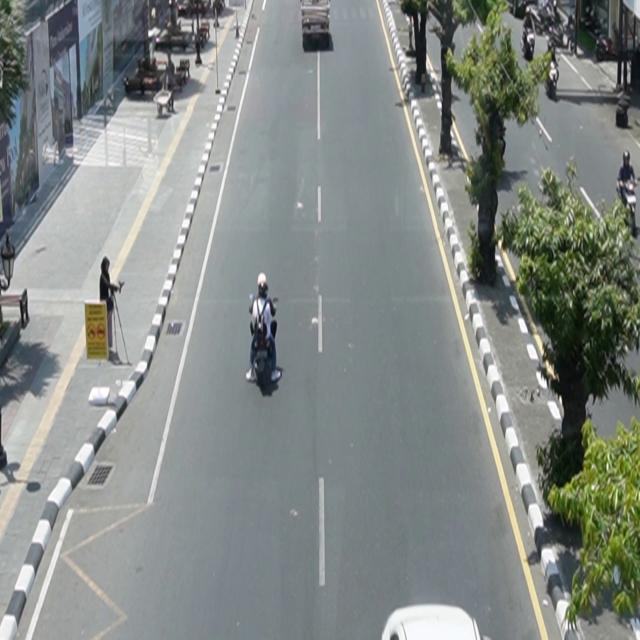car: (382, 605, 492, 640), (301, 1, 331, 37)
